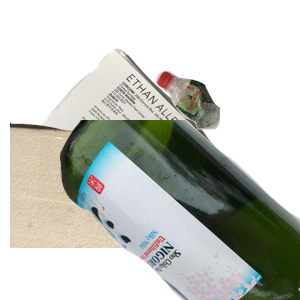glass: (60, 120, 300, 300)
paper: (10, 46, 250, 226)
plastic: (153, 68, 300, 190)
trash: (10, 120, 207, 300)
